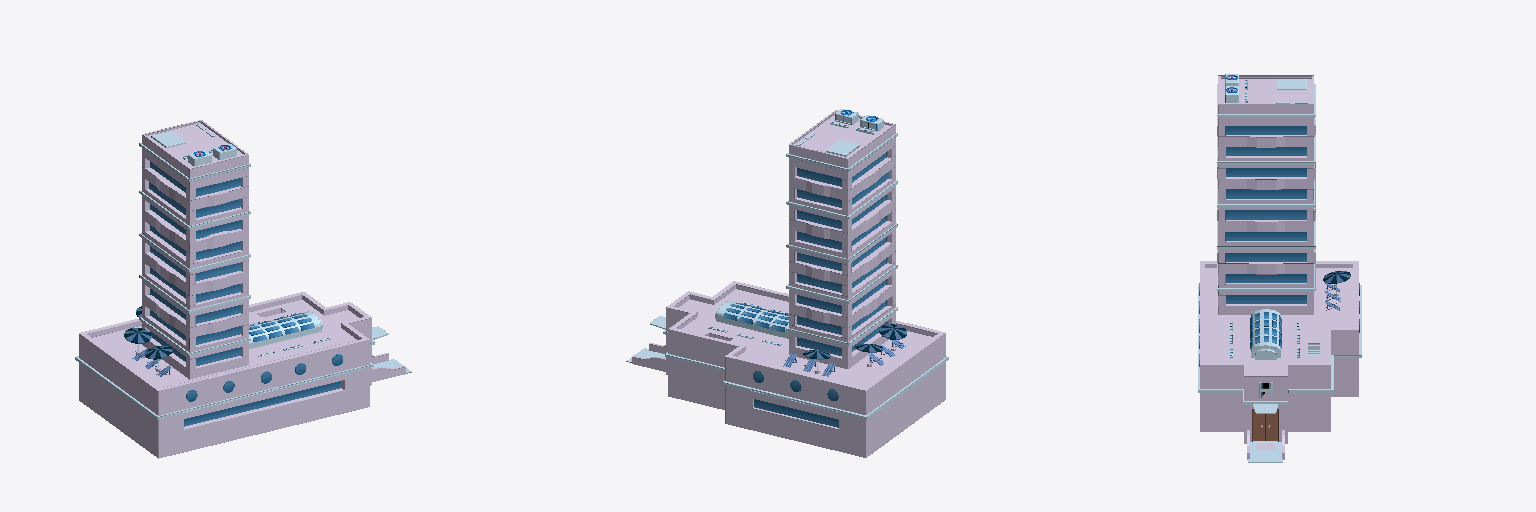
3 views of the same model, side by side, from view 1: azimuth 30°, elevation 25°; view 2: azimuth 150°, elevation 25°; view 3: azimuth 270°, elevation 25° (orthographic).
Size of the model in its own units: 676 by 645 by 345.
Materials: 1 (1 with a texture image).